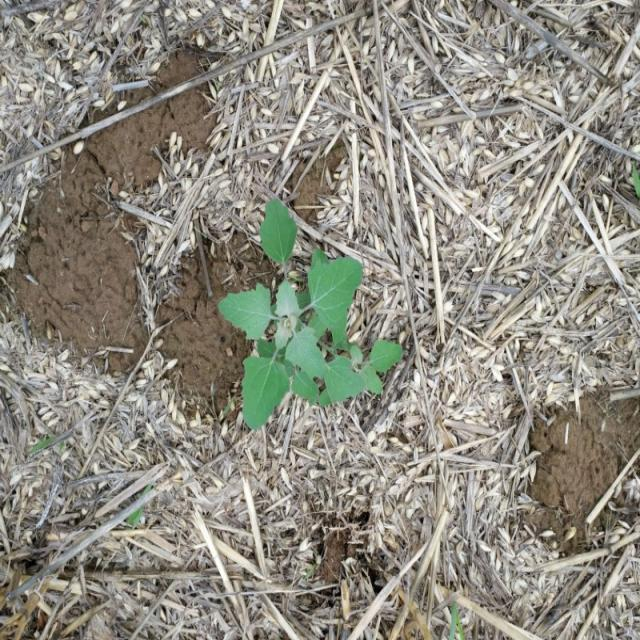goosefoots: (233, 224, 403, 421)
